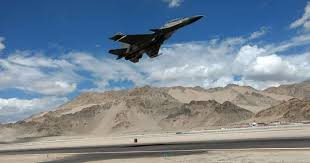maybay_muctieu: (102, 15, 210, 68)
